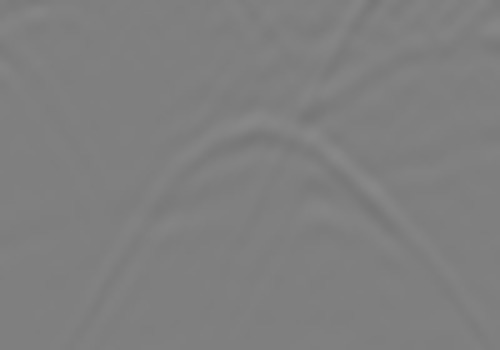hyperbola: (92, 113, 446, 295)
